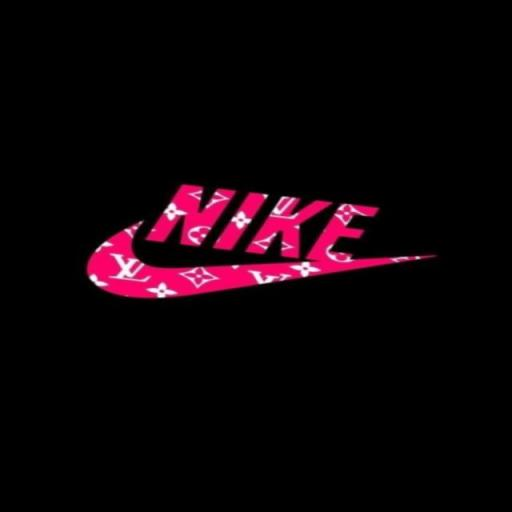Nike: (76, 208, 441, 338), (138, 174, 391, 273)
